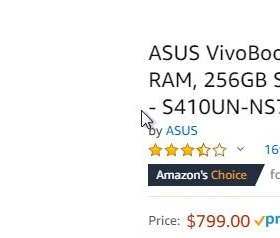cursor: (139, 107, 154, 130)
